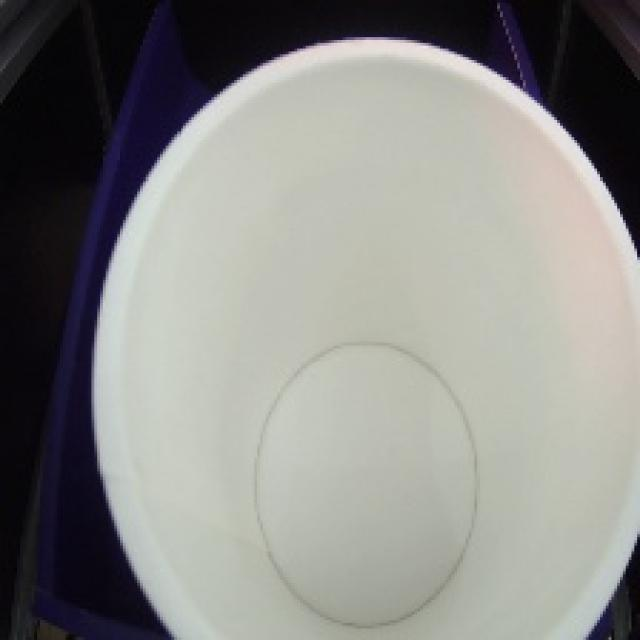cups: (75, 25, 640, 640)
